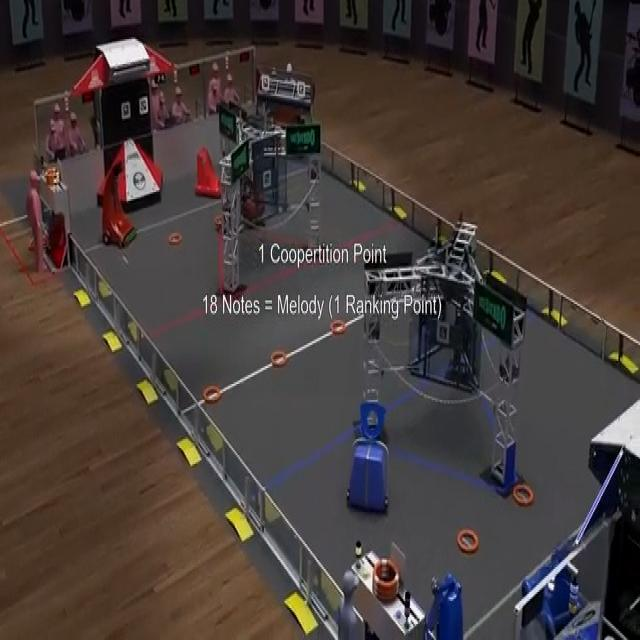notes: (454, 525, 480, 556), (509, 483, 537, 508), (268, 343, 291, 372), (329, 316, 351, 338), (204, 386, 221, 404), (168, 232, 182, 245)
